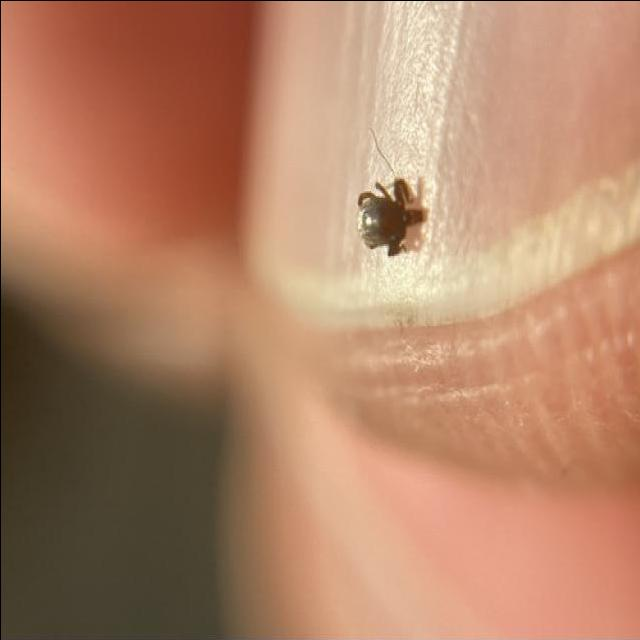Ixodes Ricinus-F-Fed: (353, 176, 443, 261)
